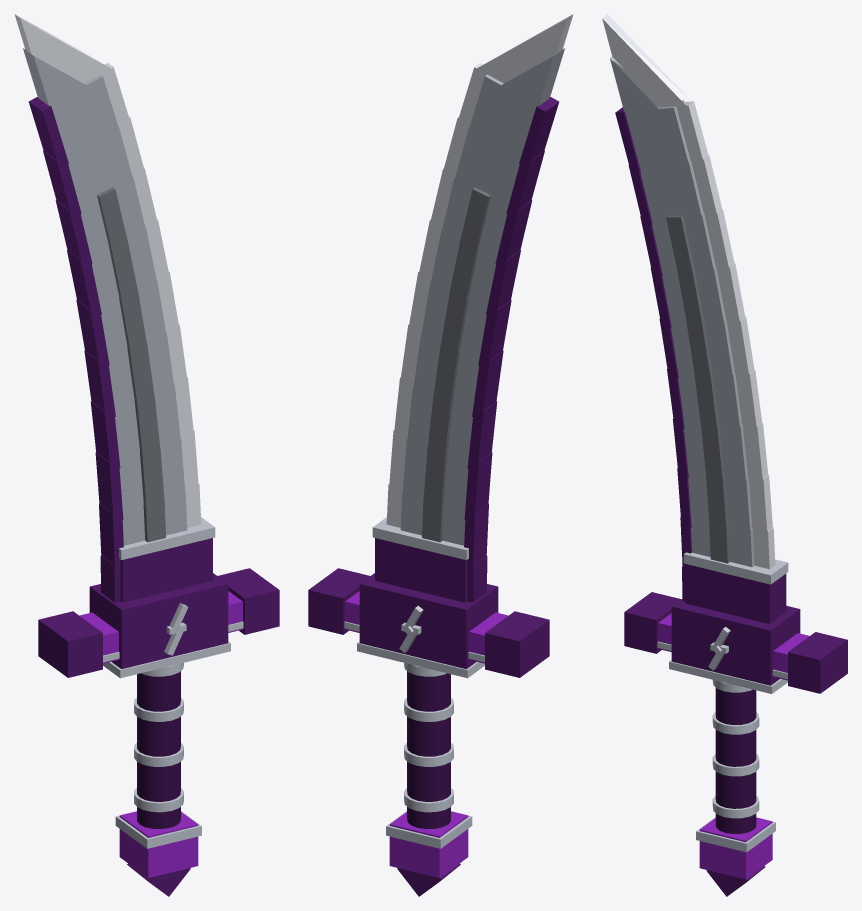
3 renders of one model, left to right at view 1: azimuth 30°, elevation 25°; view 2: azimuth 150°, elevation 25°; view 3: azimuth 330°, elevation 25°, orthographic. The views are drawn at different scales.
Visible parts, largest first — view 1: sovereign-blade; view 2: sovereign-blade; view 3: sovereign-blade.
Part boxes in pixels (x1=…): sovereign-blade: x1=14, y1=14, x2=279, y2=896; sovereign-blade: x1=308, y1=14, x2=573, y2=896; sovereign-blade: x1=602, y1=14, x2=847, y2=896.
Size of the model in its own units: 0.2815 by 0.9882 by 0.0829.
